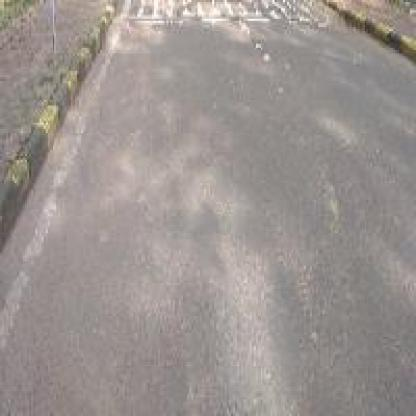Speed Bump: (119, 2, 316, 25)
